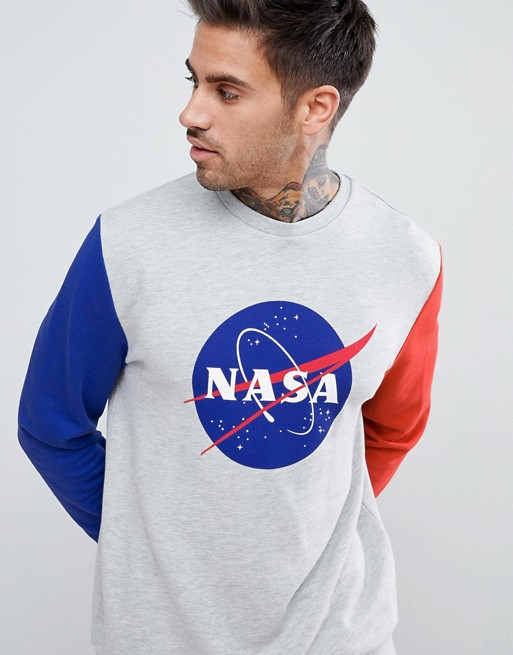NASA: (179, 295, 377, 469)
